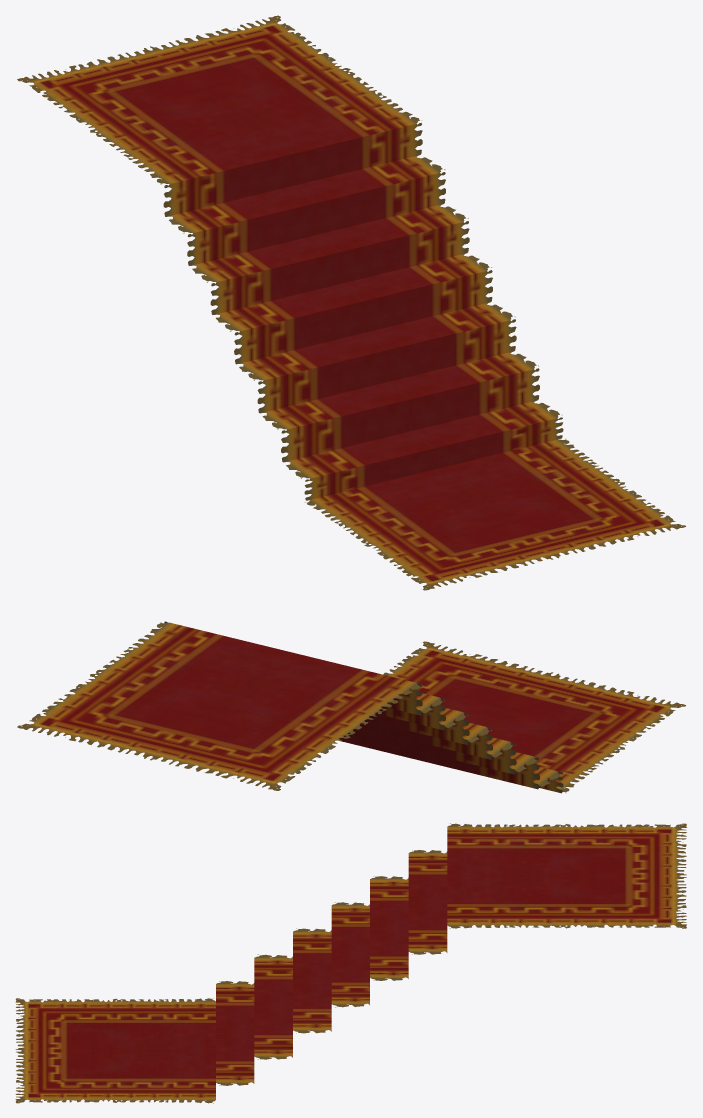
Rendered from Carpet_Mid_Str_1.fbx.
The picture shows the model from 3 angles, top to bottom: view 1: azimuth 30°, elevation 25°; view 2: azimuth 150°, elevation 25°; view 3: azimuth 270°, elevation 25°; orthographic projection. The views are drawn at different scales.
Parts seen in each view (by area): view 1: polySurface7356; view 2: polySurface7356; view 3: polySurface7356.
Boxes of the visible parts, x1,y1,x2,y2 form: polySurface7356: (17, 15, 685, 590); polySurface7356: (17, 621, 685, 793); polySurface7356: (15, 823, 686, 1103).
Size of the model in its own units: 2.6 by 2 by 7.
